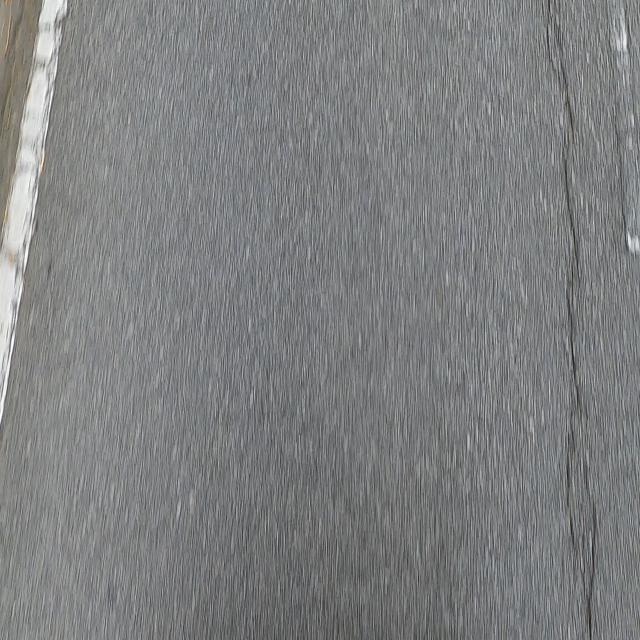Retak-Memanjang: (542, 0, 584, 542), (581, 461, 601, 635)
